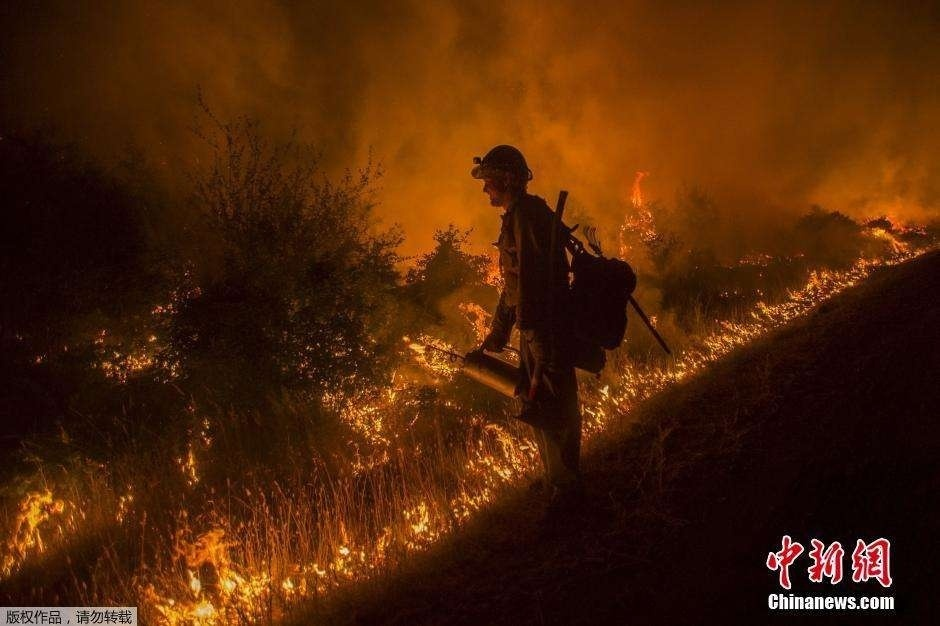fire: (209, 154, 811, 606)
